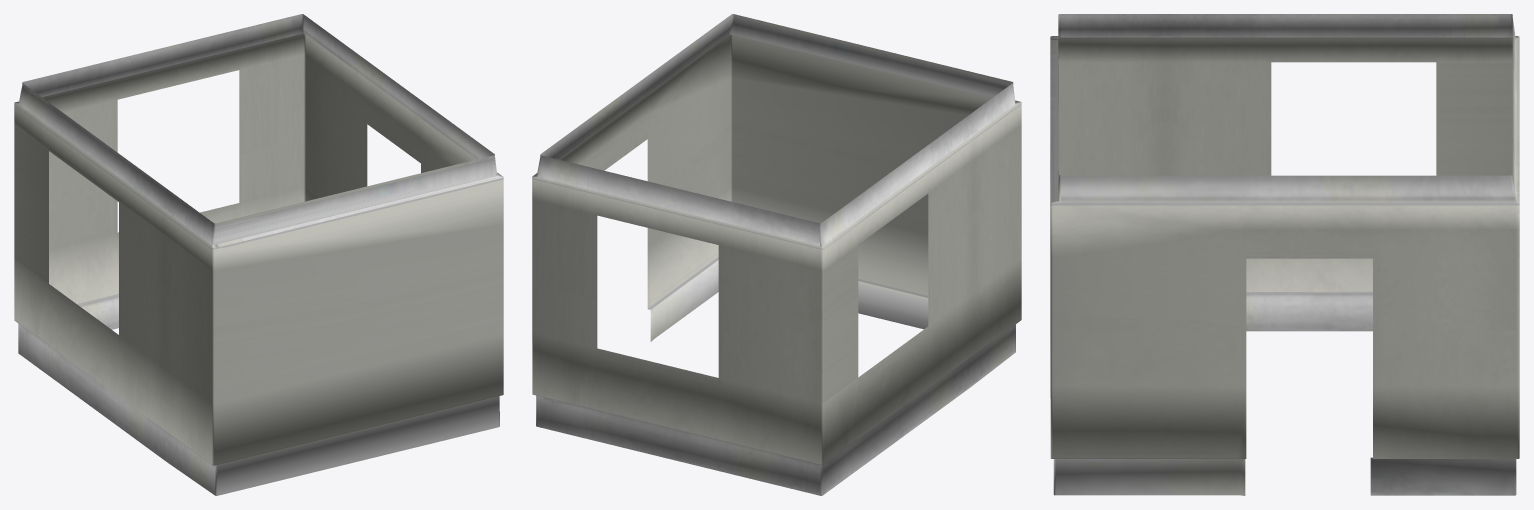
Rendered from wall.FBX.
The picture shows the model from 3 angles, left to right: view 1: azimuth 30°, elevation 25°; view 2: azimuth 150°, elevation 25°; view 3: azimuth 270°, elevation 25°; orthographic projection. The views are drawn at different scales.
Parts seen in each view (by area): view 1: wall; view 2: wall; view 3: wall.
Part boxes in pixels (box(x1,y1,x2,y2)): wall: box(14, 14, 503, 495); wall: box(532, 14, 1021, 495); wall: box(1050, 14, 1519, 495).
Bounding box in the file's own units: 137 × 122 × 163.
